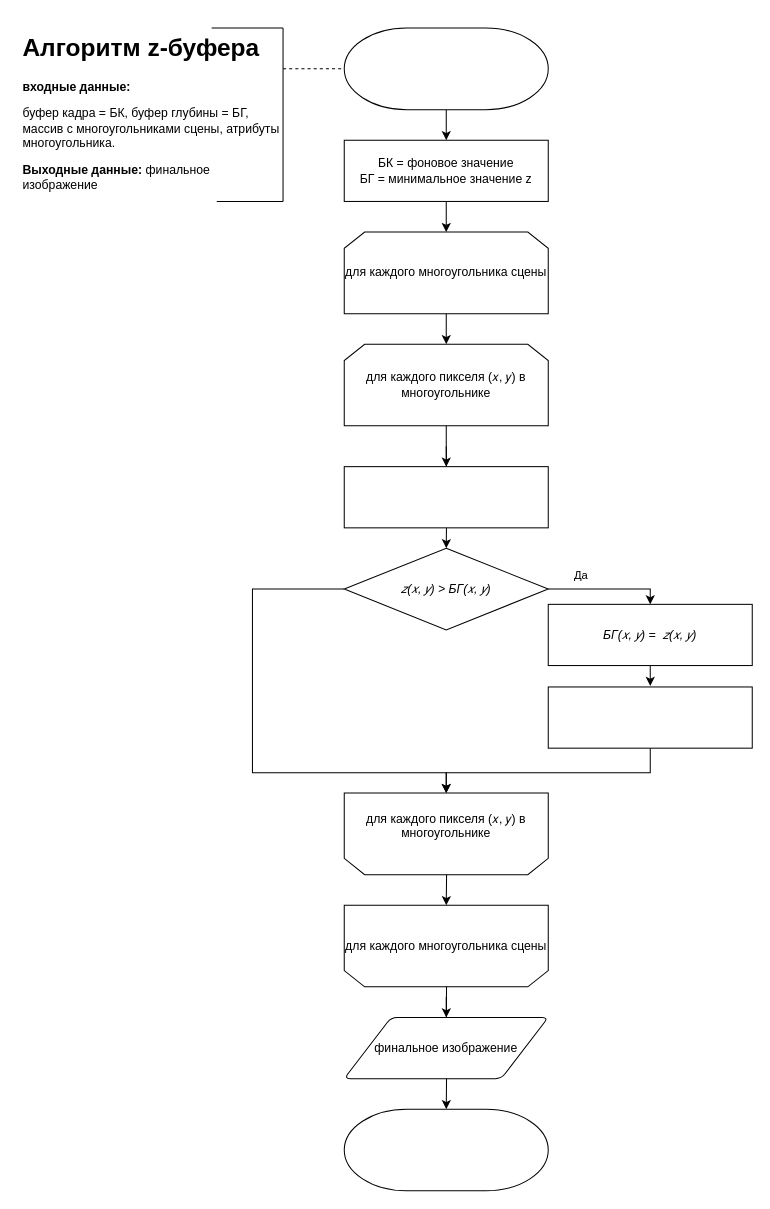
Image size: 770x1209. Some labels were removed from this diagram. Here are the shapes that lost their labels. From the top down, the centre of each, then its label:
At (x=445, y=68): "Начало".
At (x=445, y=497): "вычислить глубину пикселя 𝑧(𝑥, 𝑦)".
At (x=649, y=717): "записать атрибут этого многоугольника".
At (x=445, y=1149): "конец".
